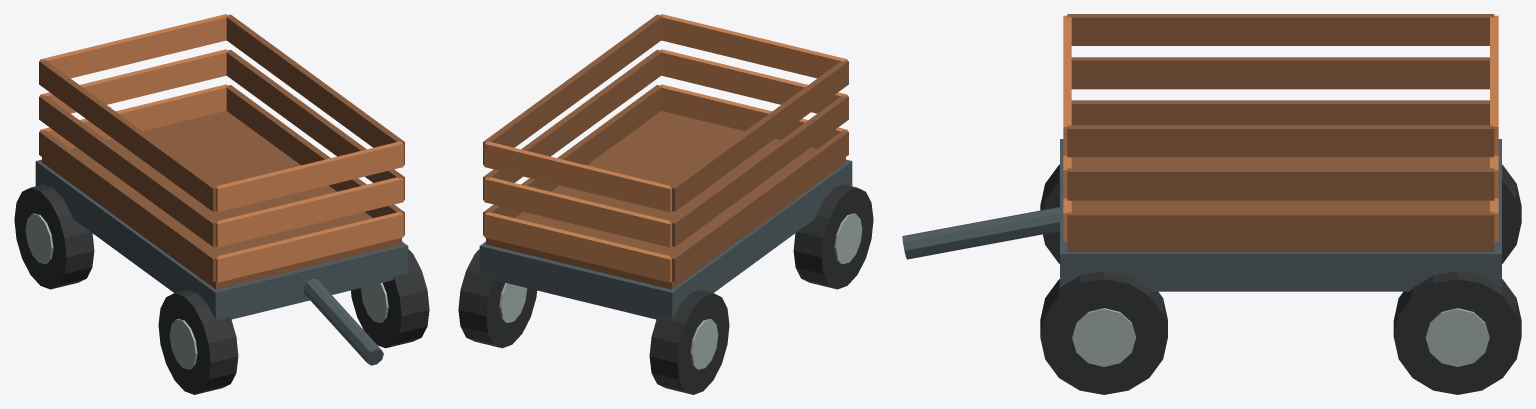
File: 019_farm_cargo_trailer.glb
The picture shows the model from 3 angles, left to right: view 1: azimuth 30°, elevation 25°; view 2: azimuth 150°, elevation 25°; view 3: azimuth 270°, elevation 25°; orthographic projection. The views are drawn at different scales.
Visible parts, largest first — view 1: Farm cargo trailer; view 2: Farm cargo trailer; view 3: Farm cargo trailer.
Boxes of the visible parts, x1=… form: Farm cargo trailer: x1=14, y1=14, x2=429, y2=394; Farm cargo trailer: x1=458, y1=14, x2=873, y2=394; Farm cargo trailer: x1=902, y1=14, x2=1521, y2=394.
Bounding box in the file's own units: 1.68 × 1.51 × 3.29.
